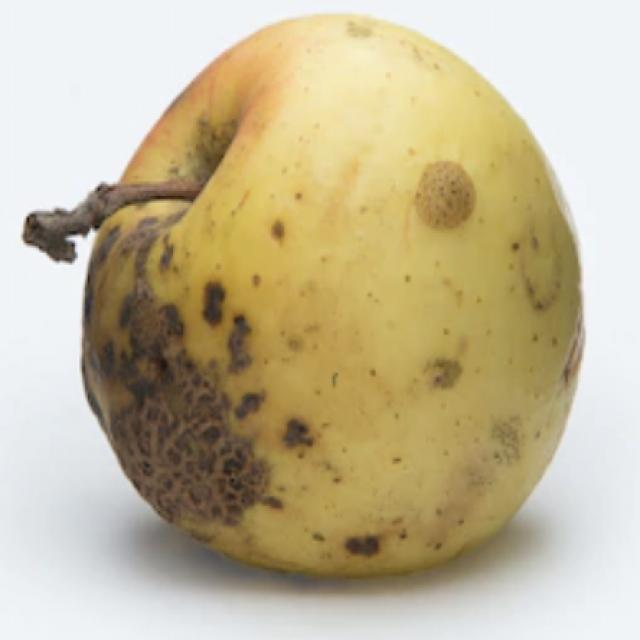Rotten: (89, 28, 584, 577)
